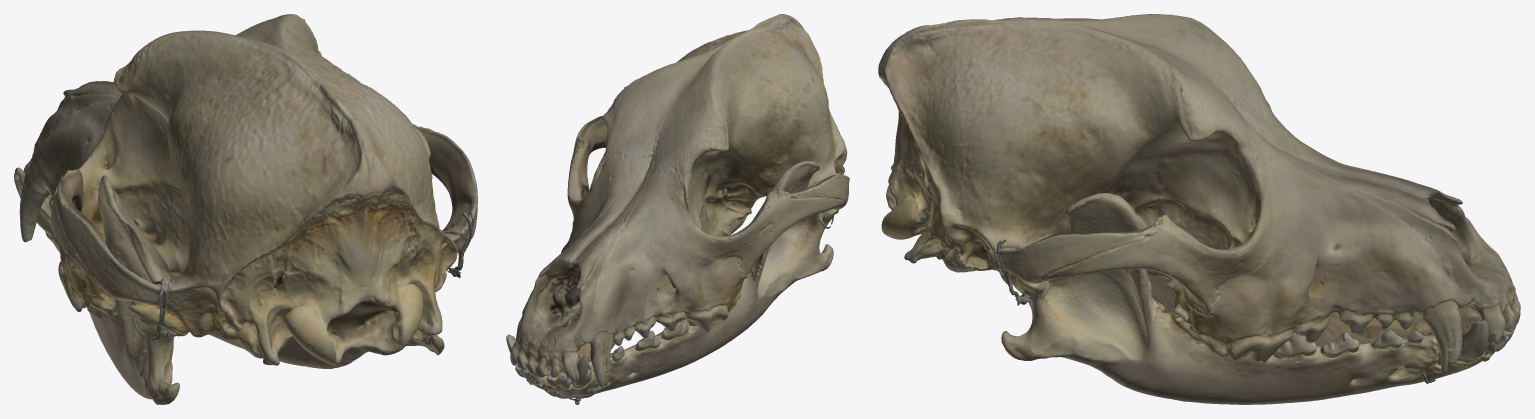
File: dog_skull.glb
The picture shows the model from 3 angles, left to right: view 1: azimuth 30°, elevation 25°; view 2: azimuth 150°, elevation 25°; view 3: azimuth 270°, elevation 25°; orthographic projection. The views are drawn at different scales.
Parts seen in each view (by area): view 1: Object_7, Object_8, Object_6, Object_5, Object_9, Object_10, Object_3, Object_4, Object_2; view 2: Object_7, Object_6, Object_4, Object_9, Object_5, Object_3, Object_8, Object_2, Object_10; view 3: Object_6, Object_9, Object_7, Object_4, Object_8, Object_10, Object_3, Object_5, Object_2.
Boxes of the visible parts, x1,y1,x2,y2 form: Object_7: (61, 14, 457, 355); Object_8: (91, 22, 457, 368); Object_6: (57, 14, 405, 399); Object_5: (43, 124, 477, 402); Object_9: (19, 70, 456, 368); Object_10: (162, 133, 472, 401); Object_3: (18, 81, 466, 394); Object_4: (23, 152, 172, 404); Object_2: (14, 167, 473, 365); Object_7: (566, 14, 847, 293); Object_6: (566, 24, 817, 317); Object_4: (509, 174, 836, 390); Object_9: (510, 110, 841, 387); Object_5: (547, 115, 849, 371); Object_3: (515, 145, 834, 398); Object_8: (569, 14, 846, 359); Object_2: (506, 165, 843, 404); Object_10: (561, 120, 846, 350); Object_6: (977, 14, 1427, 290); Object_9: (884, 193, 1505, 402); Object_7: (878, 14, 1419, 227); Object_4: (1148, 196, 1520, 404); Object_8: (878, 15, 1394, 360); Object_10: (999, 225, 1393, 362); Object_3: (949, 167, 1513, 404); Object_5: (1004, 215, 1360, 362); Object_2: (993, 179, 1520, 403).
Bounding box in the file's own units: 101 × 99.21 × 163.
Materials: 1 (1 with a texture image).
